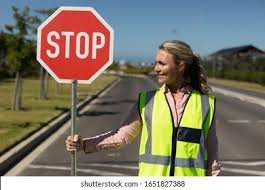stop sign: (36, 7, 115, 84)
